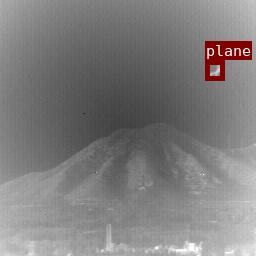plane: (205, 60, 224, 80)
